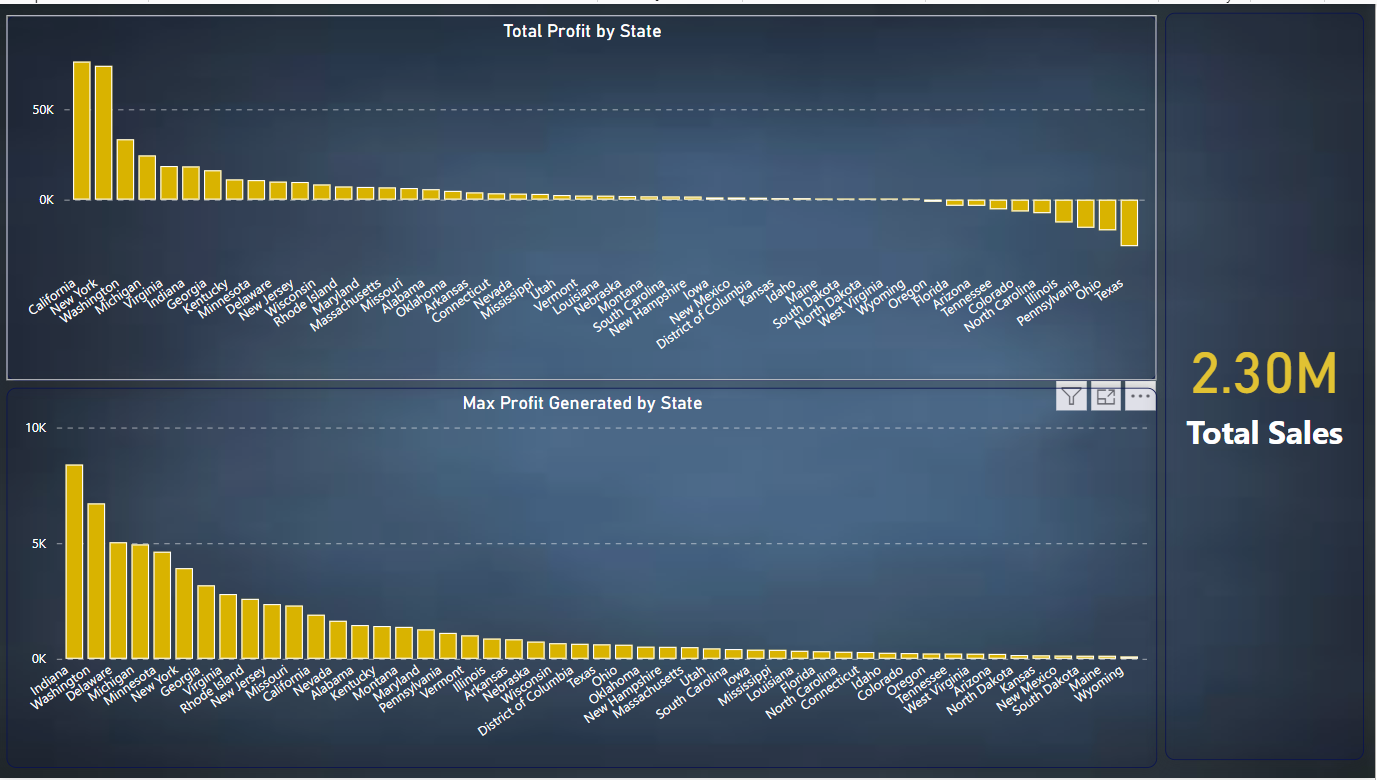

This screenshot's page, from the dashboard's own definition file:
{"tool":"powerbi","page":{"name":"Duplicate of Monthly Trends","canvas":[1280,720],"ordinal":1},"visuals":[{"type":"card","fields":{"Values":["Superstore.TotalSale_y"]},"box":[390,1258,314,662],"z":0},{"type":"columnChart","title":"Total Profit by State","fields":{"Category":["Sheet1.State"],"Y":["Sum(Sheet1.Profit)"]},"box":[6.7,10,1070,340],"z":1000},{"type":"columnChart","title":"Max Profit Generated by State","fields":{"Category":["Sheet1.State"],"Y":["Max(Sheet1.Profit)"]},"box":[6.7,356.7,1070,353.3],"z":2000},{"type":"card","fields":{"Values":["Sheet1.total_sales"]},"box":[1085,8.3,185,695],"z":3000}]}

Visuals, with their boxes in screenshot pixels (x1, y1, x2, y2), scaled from the page's 1280x720 canvas onto the 1377x780 screenshot:
"Total Profit by State" columnChart: <box>7,11,1158,379</box>
"Max Profit Generated by State" columnChart: <box>7,386,1158,769</box>
card - Sheet1.total_sales: <box>1167,9,1366,762</box>
